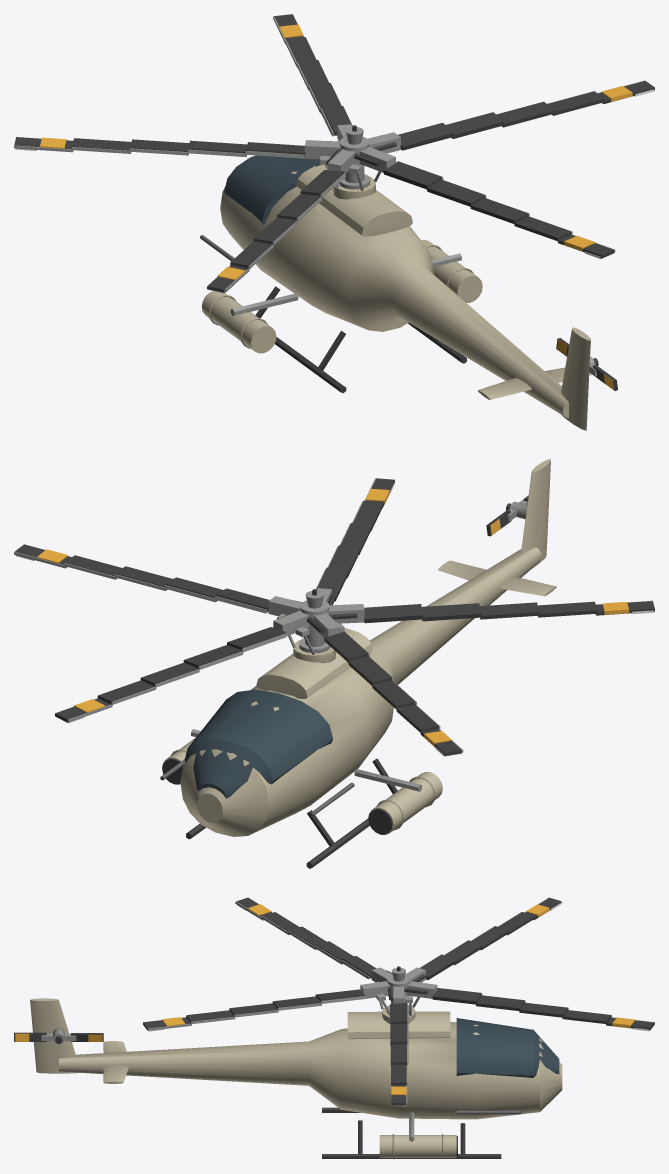
The model's file is usa_heli_ah6.glb.
3 views of the same model, one above another, from view 1: azimuth 30°, elevation 25°; view 2: azimuth 150°, elevation 25°; view 3: azimuth 270°, elevation 25° (orthographic). The views are drawn at different scales.
Parts seen in each view (by area): view 1: body, rotor, trotor; view 2: body, rotor, trotor; view 3: body, rotor, trotor.
Boxes of the visible parts, <box> form: body: <box>200,155,592,430</box>; rotor: <box>14,14,654,293</box>; trotor: <box>556,338,617,390</box>; body: <box>160,459,556,868</box>; rotor: <box>14,478,654,756</box>; trotor: <box>486,495,528,536</box>; body: <box>30,998,562,1159</box>; rotor: <box>143,897,654,1106</box>; trotor: <box>14,1027,103,1044</box>.
Size of the model in its own units: 7.6 by 2.91 by 9.99.
